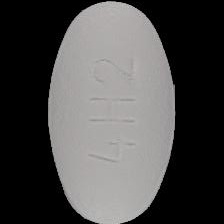45802-919: (0, 0, 224, 224)
